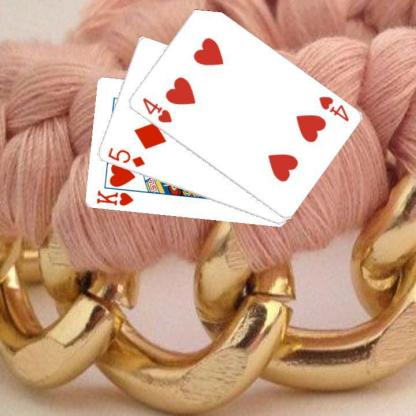4H: (140, 95, 174, 124), (316, 94, 350, 123)
5D: (105, 145, 146, 169)
KH: (94, 188, 134, 207)
